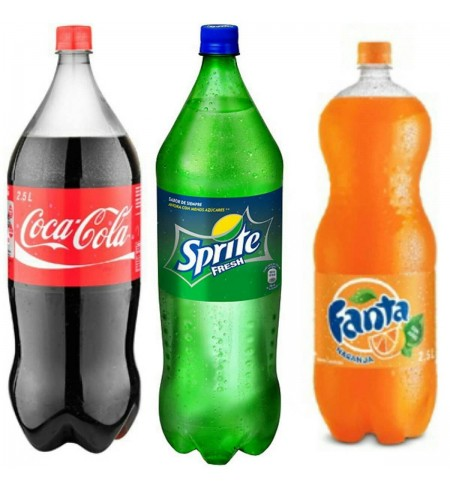Coca-Cola: (13, 11, 145, 468)
Fanta: (317, 49, 447, 445)
Sprite: (156, 19, 295, 467)
